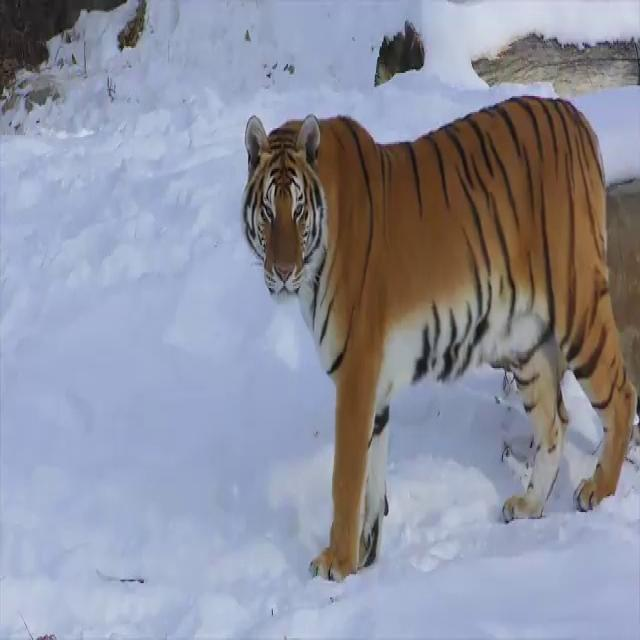tiger: (240, 94, 637, 583)
